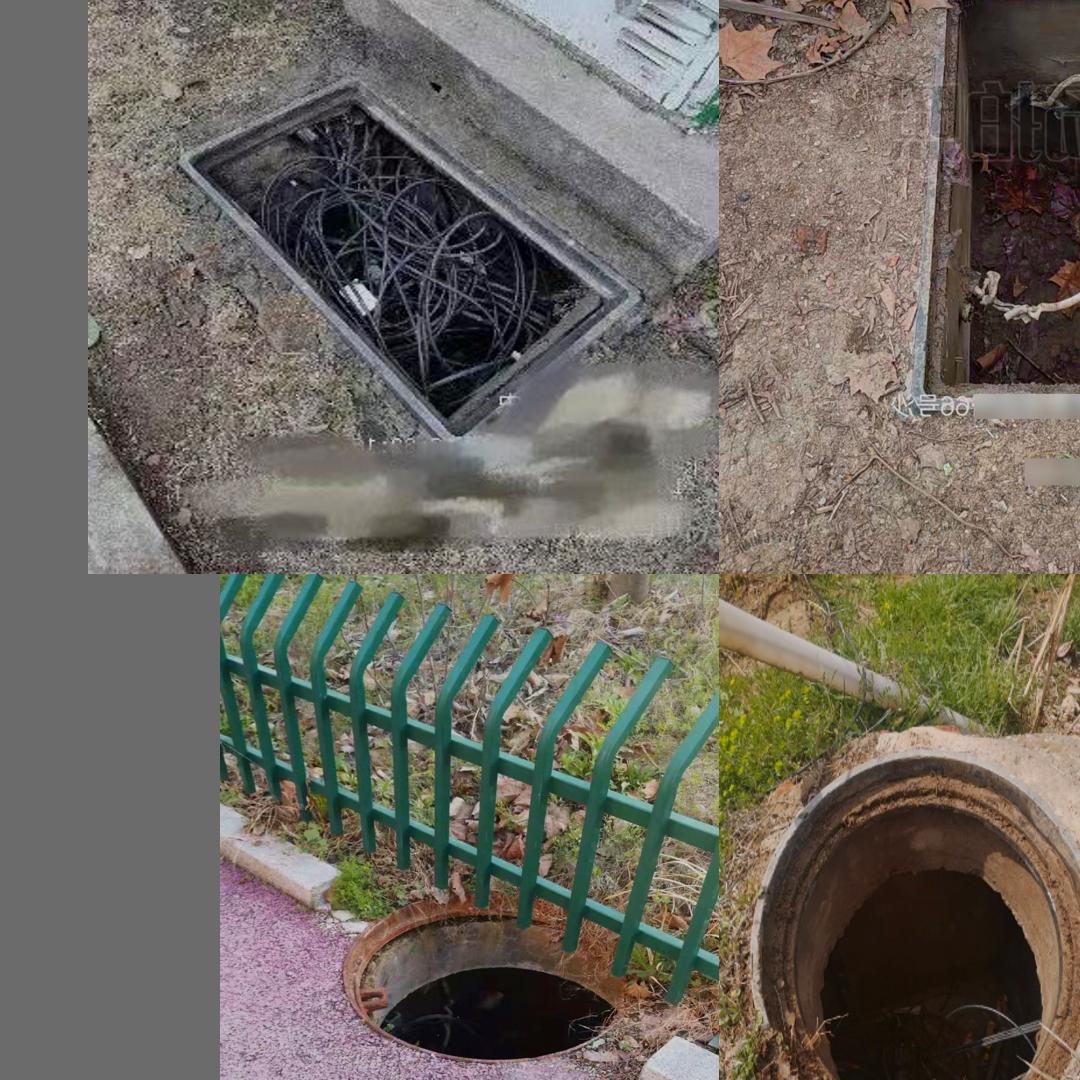lose: (171, 64, 660, 448), (750, 745, 1080, 1080), (909, 0, 1080, 412), (310, 887, 669, 1072)
